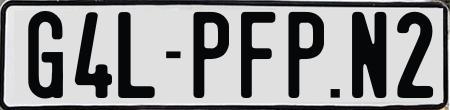2: (397, 9, 434, 98)
4: (74, 10, 115, 98)
F: (238, 9, 278, 95)
G: (25, 11, 65, 104)
L: (116, 9, 158, 97)
N: (352, 11, 388, 100)
P: (192, 9, 233, 98), (285, 9, 321, 99)
